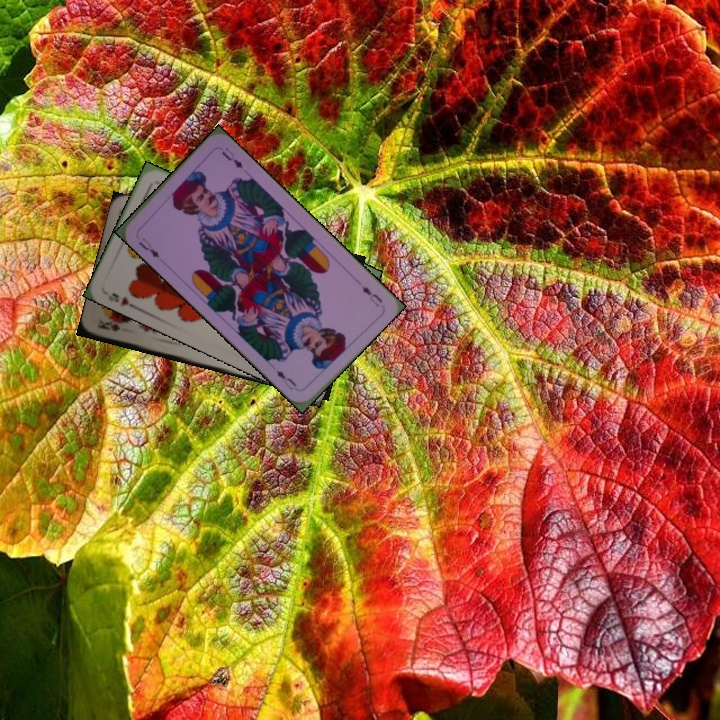EU: (134, 233, 162, 261), (358, 282, 385, 310)
H9: (104, 289, 139, 311)
SK: (94, 316, 123, 334)
